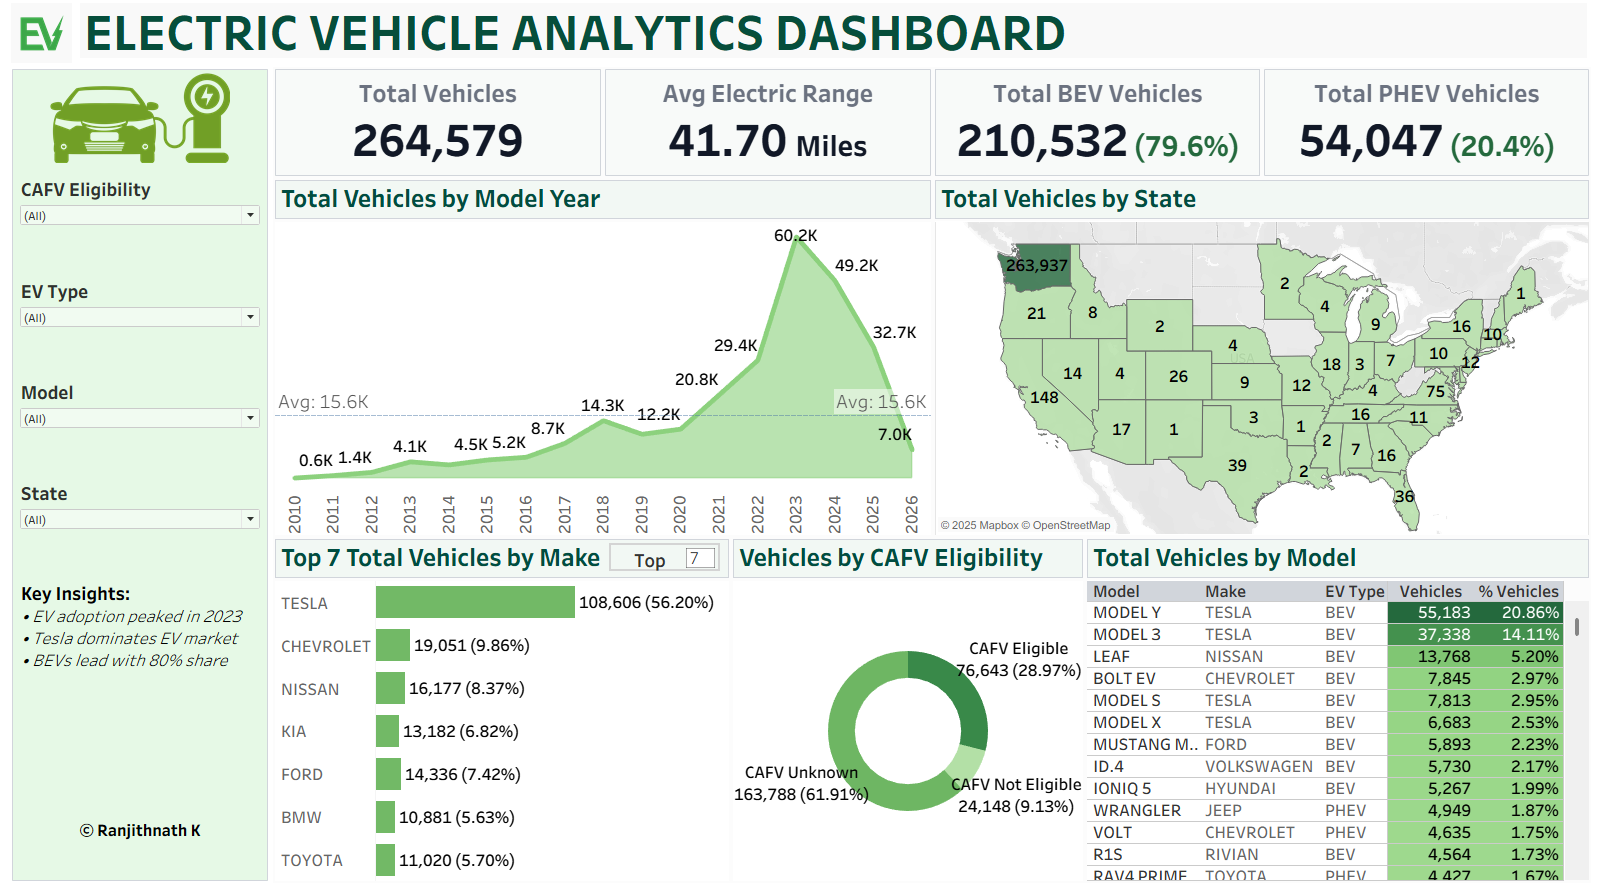

This screenshot's page, from the dashboard's own definition file:
{"tool":"tableau","page":{"name":"EV_Analytics_Dashboard","canvas":[1600,900],"ordinal":0},"visuals":[{"type":"image","param":"Image/fleetev-brandev-logo.png","box":[8,8,69,68]},{"type":"title","box":[77,8,1515,68]},{"type":"worksheet","title":"Total Vehicles","mark":"Automatic","box":[274,76,330,111]},{"type":"worksheet","title":"Avg Electric Range","mark":"Automatic","box":[604,76,330,111]},{"type":"worksheet","title":"Total BEV Vehicles","mark":"Automatic","box":[934,76,329,111]},{"type":"worksheet","title":"Total PHEV Vehicles","mark":"Automatic","box":[1263,76,329,111]},{"type":"image","param":"Image/ev-car-graphic-clipart-design-free-png.png","box":[14,79,254,102]},{"type":"filter","title":"Total Vehicles by Model Year","param":"[federated.1g1s2o81bvhsrd1cbsawv1os8dnf].[none:Clean Alternative Fuel Vehicle (C","box":[14,181,254,102]},{"type":"worksheet","title":"Total Vehicles by Model Year","mark":"Line","rows":["Calculation_3176726652616011776","Calculation_3176726652616011776"],"cols":["Model Year"],"box":[274,187,660,359]},{"type":"worksheet","title":"Total Vehicles by State","mark":"Multipolygon","box":[934,187,658,359]},{"type":"filter","title":"Total Vehicles by Model Year","param":"[federated.1g1s2o81bvhsrd1cbsawv1os8dnf].[none:Electric Vehicle Type:nk]","box":[14,283,254,101]},{"type":"filter","title":"Total Vehicles by Model Year","param":"[federated.1g1s2o81bvhsrd1cbsawv1os8dnf].[none:Model:nk]","box":[14,384,254,101]},{"type":"filter","title":"Total Vehicles by Model Year","param":"[federated.1g1s2o81bvhsrd1cbsawv1os8dnf].[none:State:nk]","box":[14,485,254,101]},{"type":"worksheet","title":"Top 10 Total Vehicles by Make","mark":"Automatic","rows":["Make"],"cols":["Calculation_3176726652616011776"],"box":[274,546,458,346]},{"type":"worksheet","title":"Total Vehicles by CAFV Eligibility","mark":"Pie","rows":["Calculation_3176726652648128520","Calculation_3176726652648128520"],"box":[732,546,354,346]},{"type":"worksheet","title":"Total Vehicles by Model","mark":"Square","rows":["Model","Make","Electric Vehicle Type"],"box":[1086,546,506,346]},{"type":"parameter","param":"[Parameters].[Parameter 1]","box":[610,552,111,28]},{"type":"text","box":[14,586,254,101]},{"type":"blank","box":[14,687,254,101]},{"type":"text","box":[14,788,254,101]}]}

Visuals, with their boxes in screenshot pixels (x1, y1, x2, y2), scaled from the page's 1600x900 canvas onto the 1599x888 screenshot:
image: bbox=(8, 8, 77, 75)
title: bbox=(77, 8, 1591, 75)
"Total Vehicles" worksheet: bbox=(274, 75, 604, 185)
"Avg Electric Range" worksheet: bbox=(604, 75, 933, 185)
"Total BEV Vehicles" worksheet: bbox=(933, 75, 1262, 185)
"Total PHEV Vehicles" worksheet: bbox=(1262, 75, 1591, 185)
image: bbox=(14, 78, 268, 179)
"Total Vehicles by Model Year" filter: bbox=(14, 179, 268, 279)
"Total Vehicles by Model Year" worksheet (Line marks): bbox=(274, 185, 933, 539)
"Total Vehicles by State" worksheet (Multipolygon marks): bbox=(933, 185, 1591, 539)
"Total Vehicles by Model Year" filter: bbox=(14, 279, 268, 379)
"Total Vehicles by Model Year" filter: bbox=(14, 379, 268, 479)
"Total Vehicles by Model Year" filter: bbox=(14, 479, 268, 578)
"Top 10 Total Vehicles by Make" worksheet: bbox=(274, 539, 732, 880)
"Total Vehicles by CAFV Eligibility" worksheet (Pie marks): bbox=(732, 539, 1085, 880)
"Total Vehicles by Model" worksheet (Square marks): bbox=(1085, 539, 1591, 880)
parameter: bbox=(610, 545, 721, 572)
text: bbox=(14, 578, 268, 678)
blank: bbox=(14, 678, 268, 777)
text: bbox=(14, 777, 268, 877)
